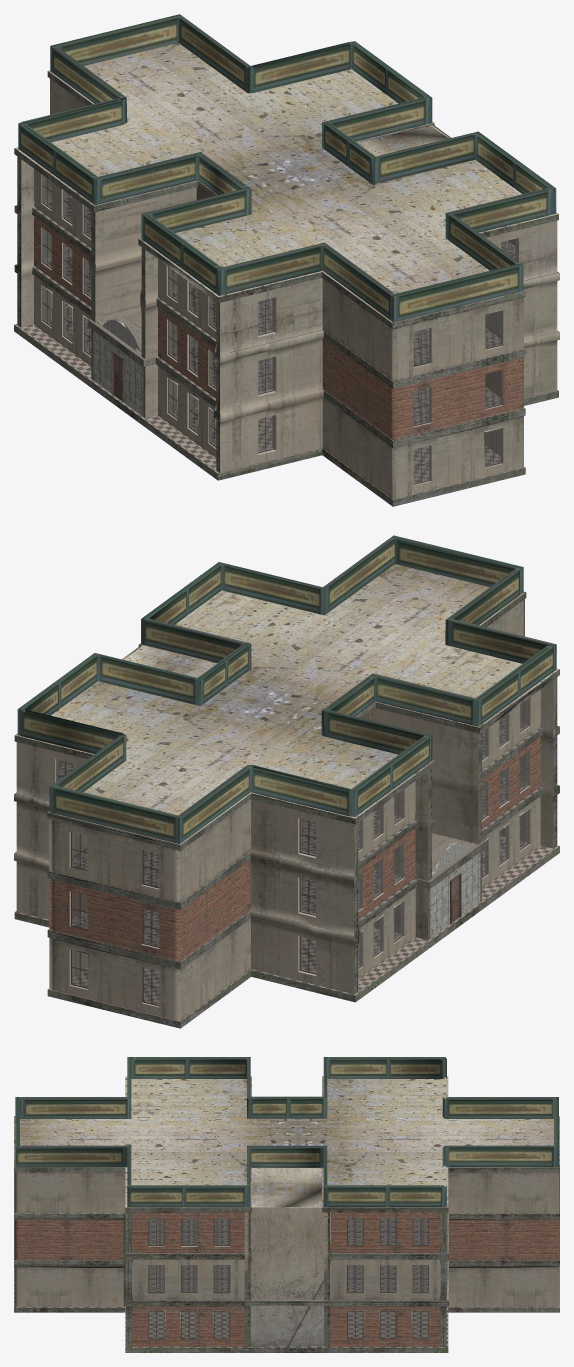
File: building.glb
3 views of the same model, one above another, from view 1: azimuth 30°, elevation 25°; view 2: azimuth 150°, elevation 25°; view 3: azimuth 270°, elevation 25° (orthographic). The views are drawn at different scales.
Visible parts, largest first — view 1: model; view 2: model; view 3: model.
Part boxes in pixels (<box>): model: <box>14,14,559,506</box>; model: <box>14,535,559,1028</box>; model: <box>14,1057,559,1352</box>.
Bounding box in the file's own units: 23.94 × 14 × 41.97.
Materials: 20 (17 with a texture image).
